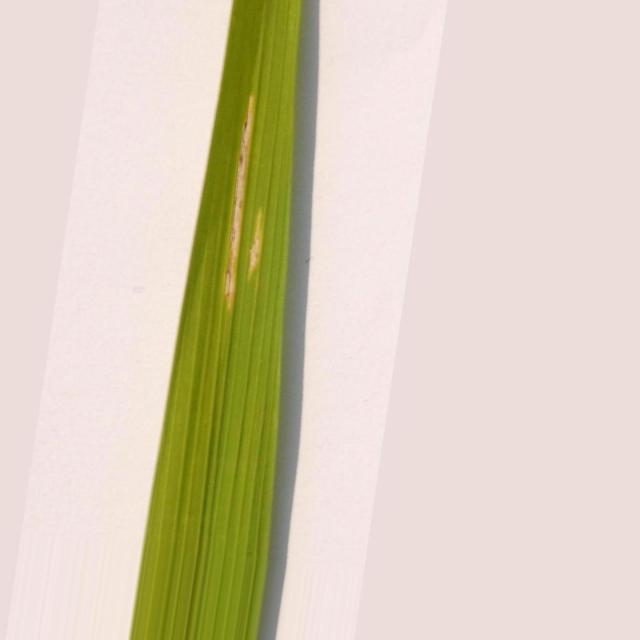Bacterial_Leaf_Blight: (225, 96, 252, 299), (249, 209, 264, 276)
